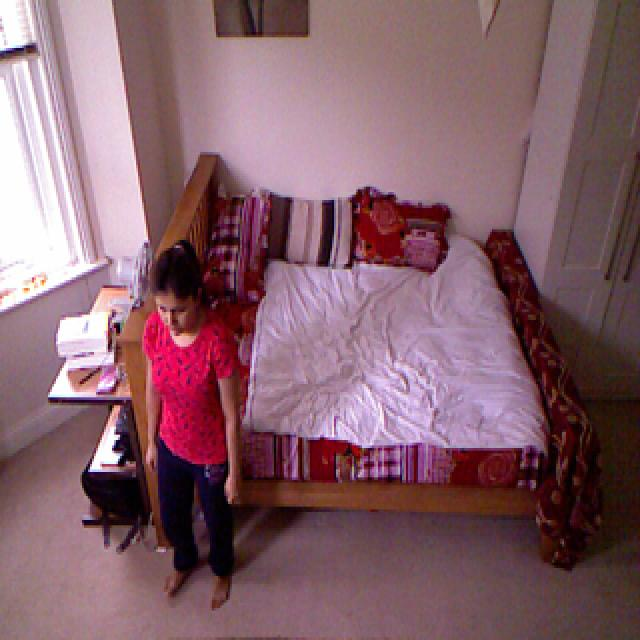standing: (139, 233, 262, 636)
